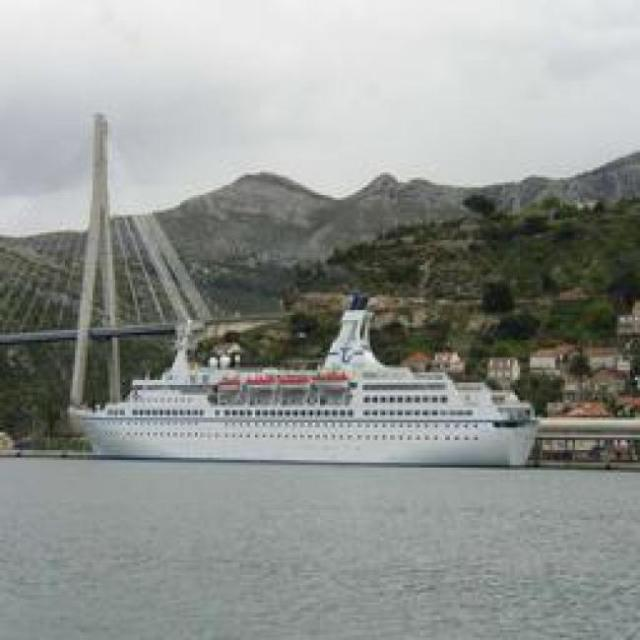boat: (71, 342, 546, 474)
